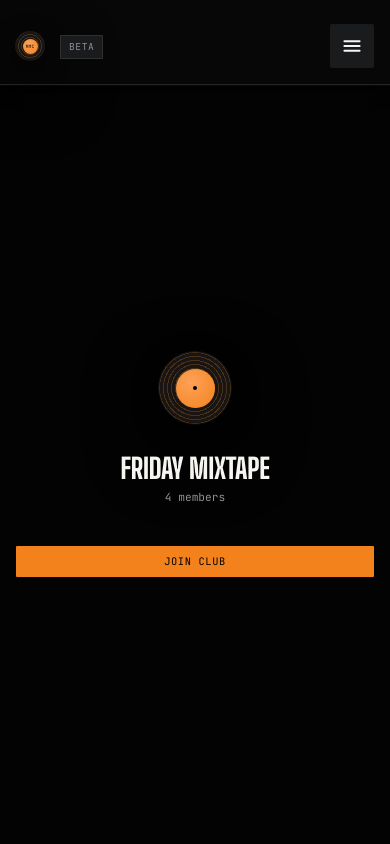
JoinClubRoute › authenticated: a join failure shows joinError and does not navigate
The width and height of the screenshot is (390, 844).
expect the heading "Friday Mixtape" is shown: met, box [120,451,270,485]
Click the button "join club" at (195, 562), box [16,546,374,577]
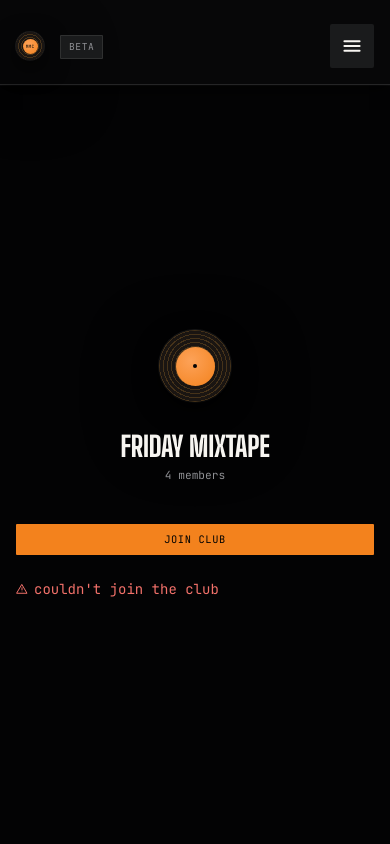
expect the message "couldn't join the club" is shown: met, box [16,580,219,598]
